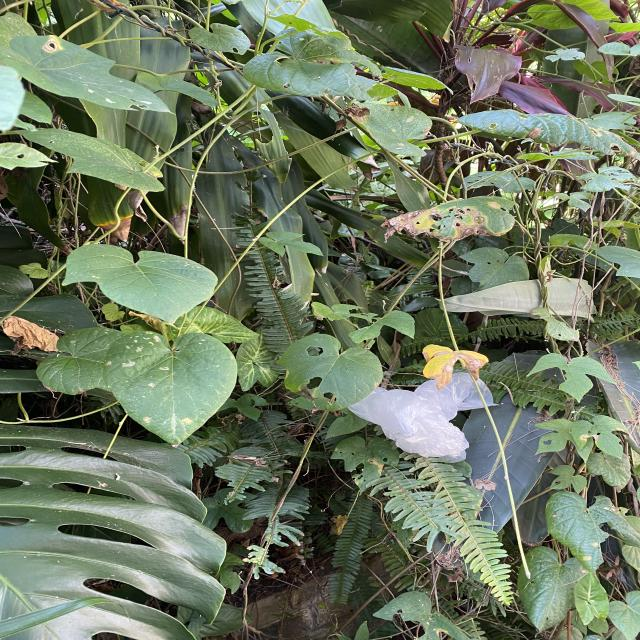bag: (347, 372, 496, 465)
